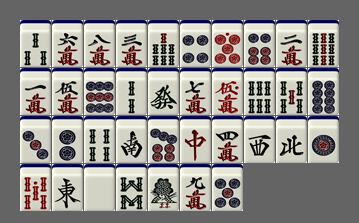0m: (212, 68, 243, 115)
0p: (212, 20, 243, 67)
0s: (20, 164, 51, 211)
1m: (20, 68, 51, 115)
1p: (308, 116, 339, 163)
1s: (148, 164, 179, 211)
1z: (52, 164, 83, 211)
2m: (276, 20, 307, 67)
2p: (52, 116, 83, 163)
2s: (116, 68, 147, 115)
2z: (116, 116, 147, 163)
3m: (116, 20, 147, 67)
3p: (20, 116, 51, 163)
3s: (20, 20, 51, 67)
3z: (244, 116, 275, 163)
4m: (212, 116, 243, 163)
4p: (180, 20, 211, 67)
4s: (84, 116, 115, 163)
4z: (276, 116, 307, 163)
5m: (52, 68, 83, 115)
5p: (212, 164, 243, 211)
5s: (276, 68, 307, 115)
5z: (84, 164, 115, 211)
6m: (52, 20, 83, 67)
6p: (244, 20, 275, 67)
6s: (244, 68, 275, 115)
6z: (148, 68, 179, 115)
7m: (180, 68, 211, 115)
7p: (148, 116, 179, 163)
7s: (148, 20, 179, 67)
7z: (180, 116, 211, 163)
8m: (84, 20, 115, 67)
8p: (308, 68, 339, 115)
8s: (116, 164, 147, 211)
9m: (180, 164, 211, 211)
9p: (84, 68, 115, 115)
9s: (308, 20, 339, 67)
